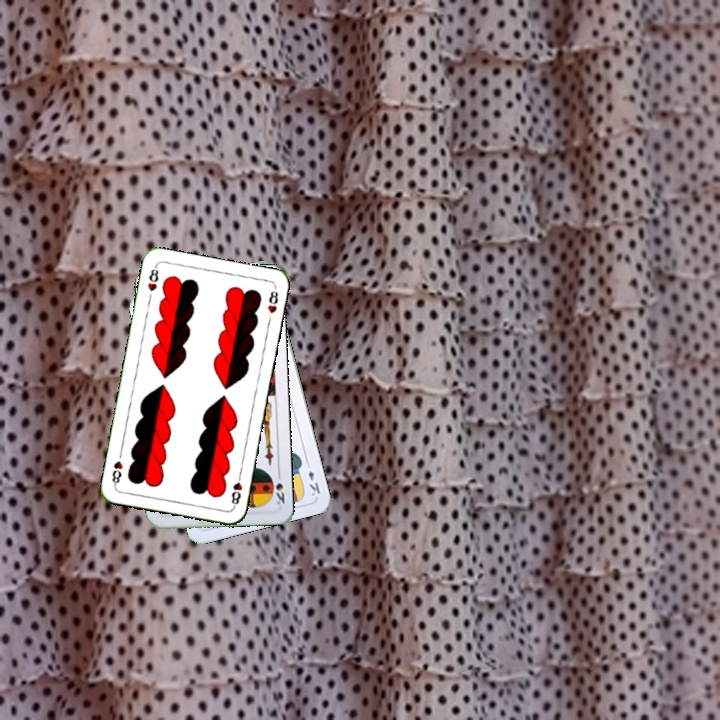EK: (302, 458, 323, 499)
H8: (227, 469, 245, 510), (144, 262, 161, 294)
SK: (270, 468, 287, 507)
